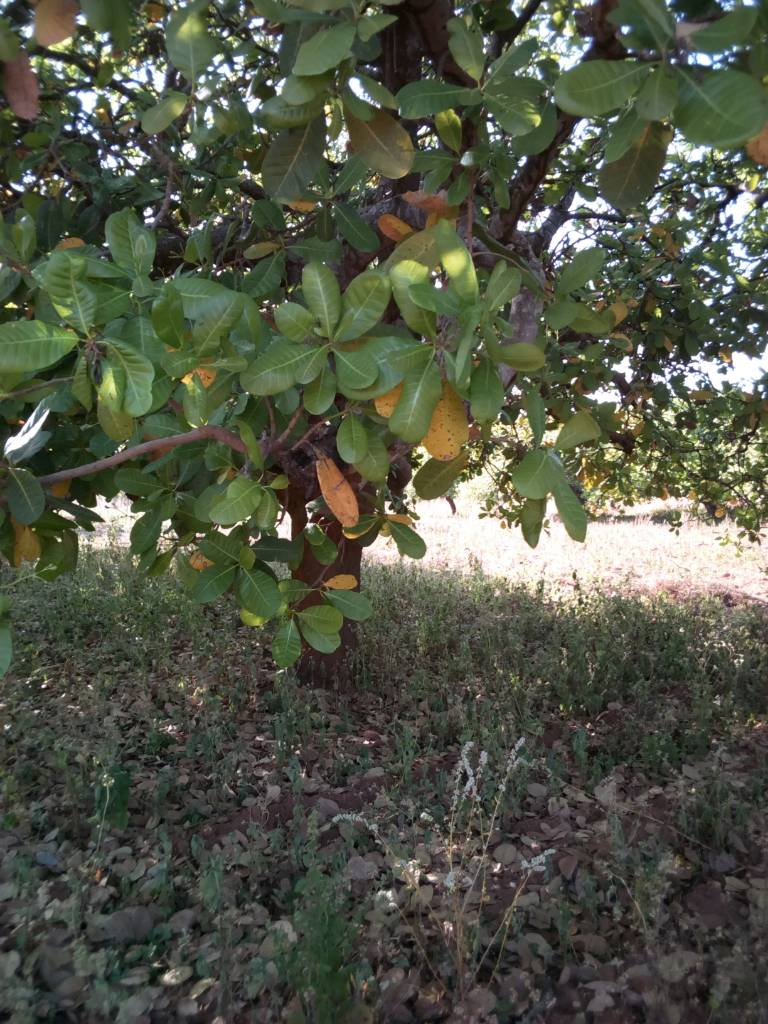Anthracnose: (422, 382, 468, 478), (316, 460, 365, 532)
